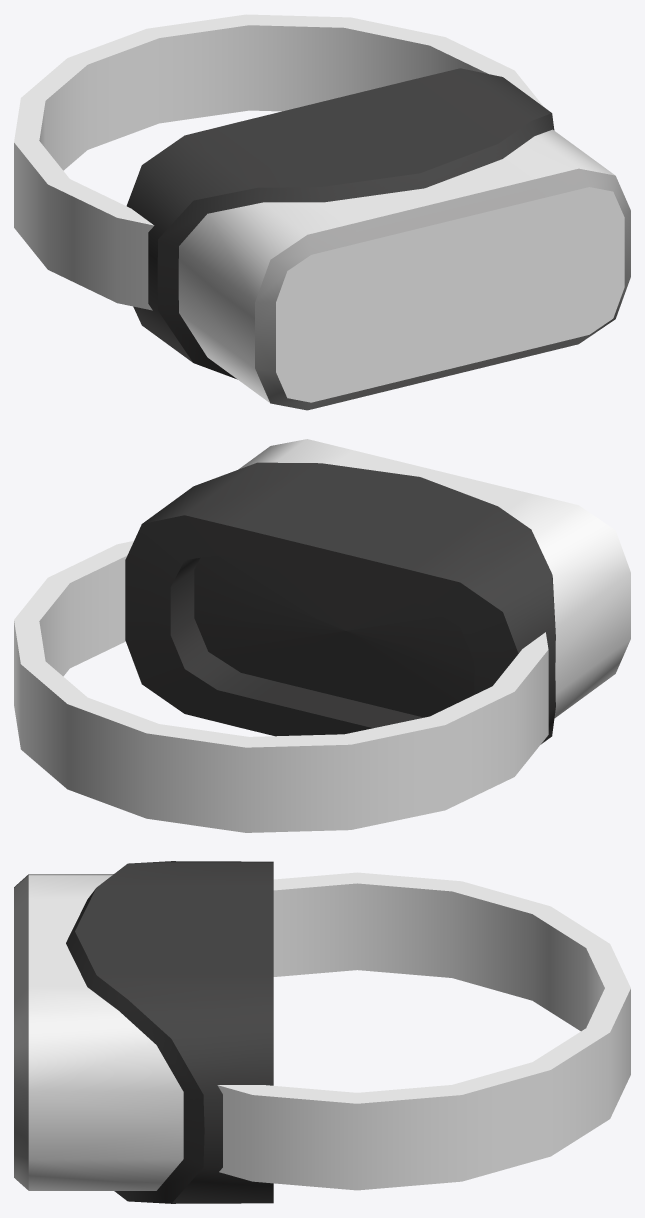
The model's file is Head_Prop_VR_01.fbx.
3 renders of one model, top to bottom at view 1: azimuth 30°, elevation 25°; view 2: azimuth 150°, elevation 25°; view 3: azimuth 270°, elevation 25°, orthographic.
Parts seen in each view (by area): view 1: Head_Prop_VR_01; view 2: Head_Prop_VR_01; view 3: Head_Prop_VR_01.
Boxes of the visible parts, <box> form: Head_Prop_VR_01: <box>14,14,630,410</box>; Head_Prop_VR_01: <box>14,439,630,832</box>; Head_Prop_VR_01: <box>14,861,630,1203</box>.
Bounding box in the file's own units: 109 × 44.46 × 123.
